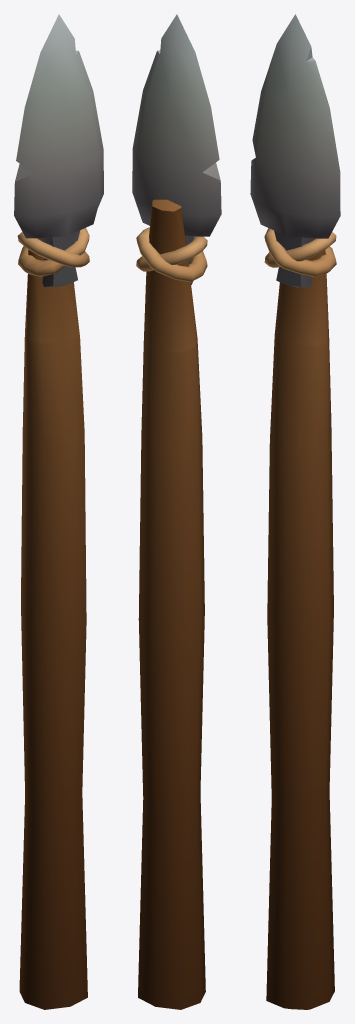
The model's file is Spear_02.obj.
3 renders of one model, left to right at view 1: azimuth 30°, elevation 25°; view 2: azimuth 150°, elevation 25°; view 3: azimuth 330°, elevation 25°, orthographic.
Parts seen in each view (by area): view 1: Spear_02; view 2: Spear_02; view 3: Spear_02.
Part boxes in pixels (x1,y1,x2,y2): Spear_02: [14, 14, 103, 1009]; Spear_02: [132, 14, 221, 1009]; Spear_02: [250, 14, 340, 1009].
Bounding box in the file's own units: 0.1351 × 1.43 × 0.0999.
